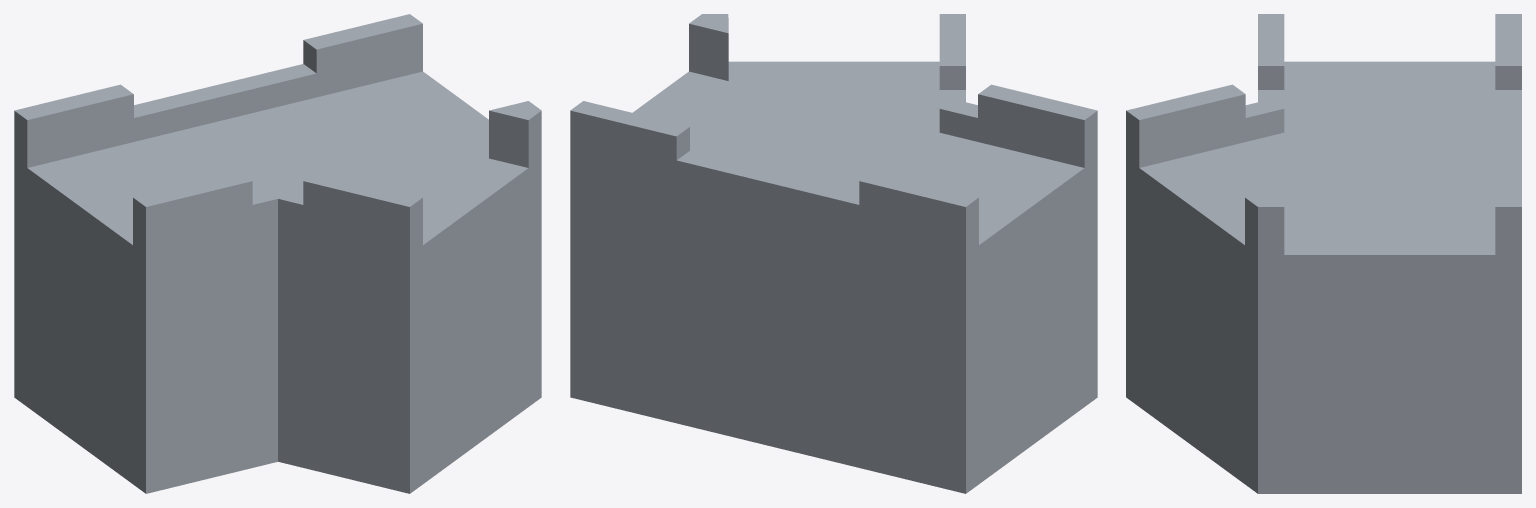
Rendered from wall_top_cross2.fbx.
The picture shows the model from 3 angles, left to right: view 1: azimuth 30°, elevation 25°; view 2: azimuth 150°, elevation 25°; view 3: azimuth 270°, elevation 25°; orthographic projection.
Parts seen in each view (by area): view 1: Cylinder; view 2: Cylinder; view 3: Cylinder.
Part boxes in pixels (x1,y1,x2,y2): Cylinder: (14, 14, 541, 493); Cylinder: (570, 14, 1097, 493); Cylinder: (1126, 14, 1521, 493).
Bounding box in the file's own units: 1.73 × 1.2 × 1.5.
